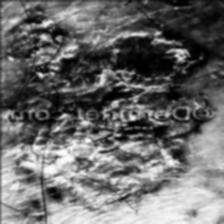Potentially Malignant Skin Tumors: (14, 17, 208, 210)
